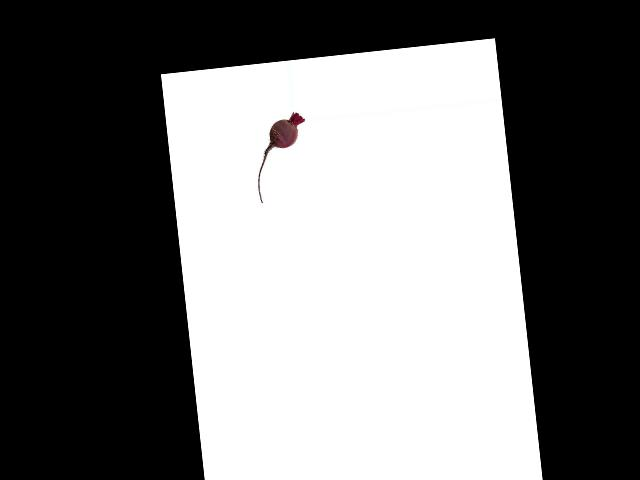beet: (250, 112, 313, 204)
